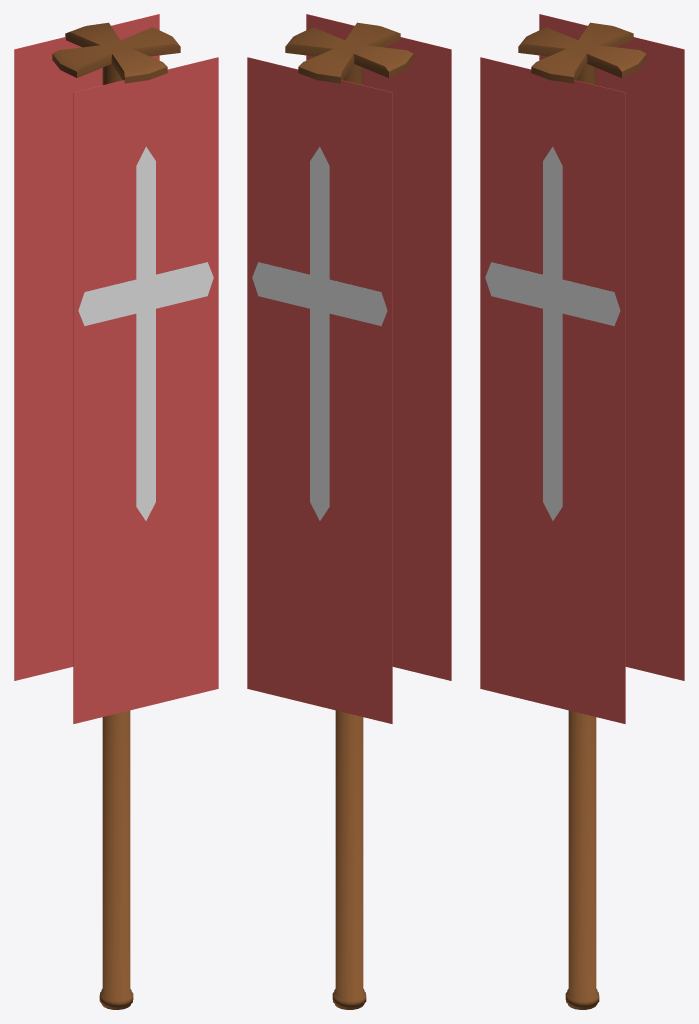
Rendered from flagpost.fbx.
3 views of the same model, side by side, from view 1: azimuth 30°, elevation 25°; view 2: azimuth 150°, elevation 25°; view 3: azimuth 330°, elevation 25° (orthographic).
Parts seen in each view (by area): view 1: FlagPost; view 2: FlagPost; view 3: FlagPost.
Part boxes in pixels (x1,y1,x2,y2): FlagPost: (14, 14, 218, 1009); FlagPost: (247, 14, 451, 1009); FlagPost: (480, 14, 684, 1009).
Bounding box in the file's own units: 2.4 × 15.15 × 1.86.
